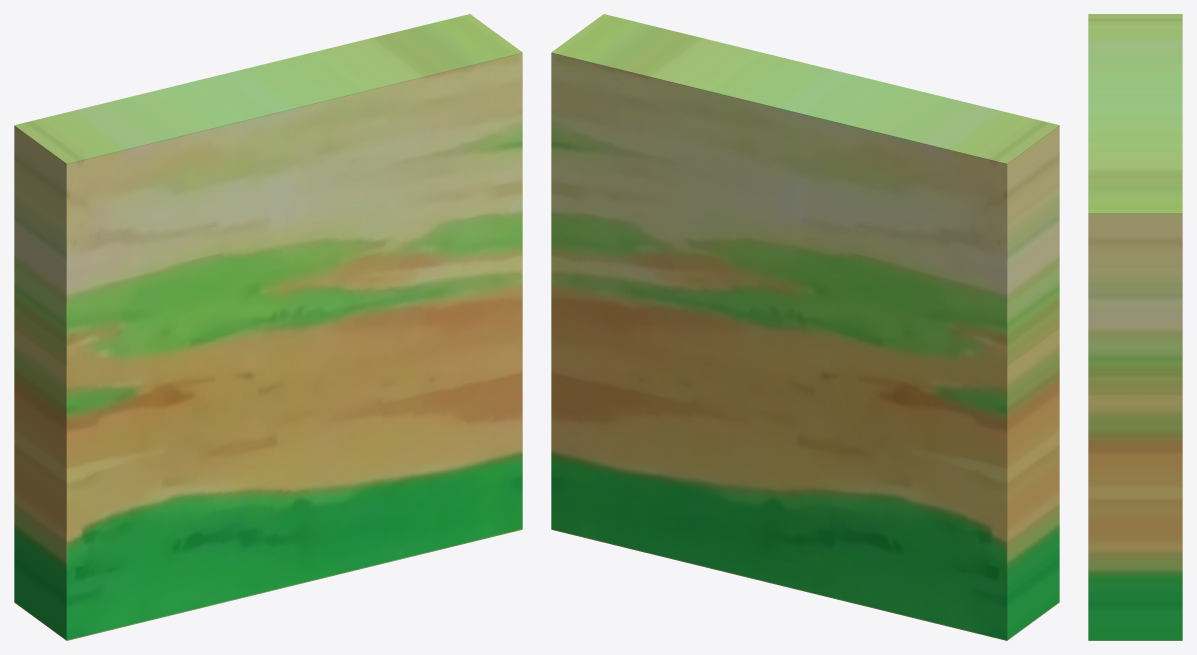
File: lv03-floor-paprika.obj
3 renders of one model, left to right at view 1: azimuth 30°, elevation 25°; view 2: azimuth 150°, elevation 25°; view 3: azimuth 270°, elevation 25°, orthographic. The views are drawn at different scales.
Visible parts, largest first — view 1: Object.1; view 2: Object.1; view 3: Object.1.
Boxes of the visible parts, x1,y1,x2,y2 form: Object.1: [14, 14, 522, 640]; Object.1: [551, 14, 1059, 640]; Object.1: [1088, 14, 1182, 640].
Size of the model in its own units: 0.9999 by 0.9999 by 0.2.
Materials: 1 (1 with a texture image).
